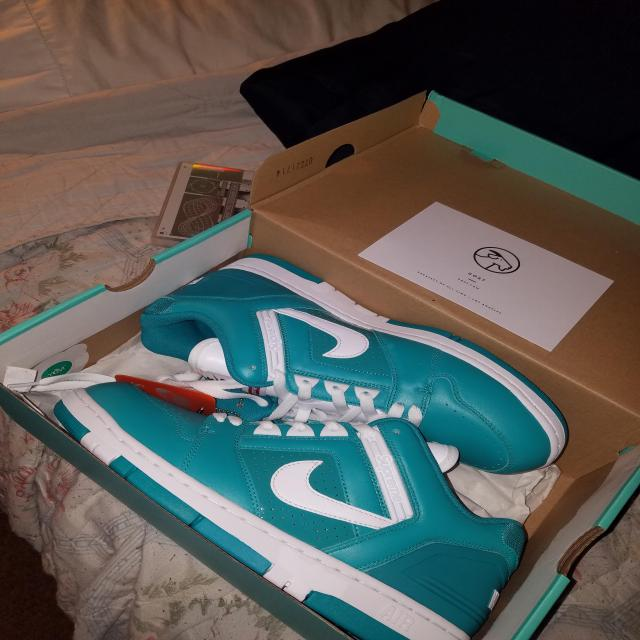shoe: (48, 373, 534, 640), (128, 246, 580, 483)
